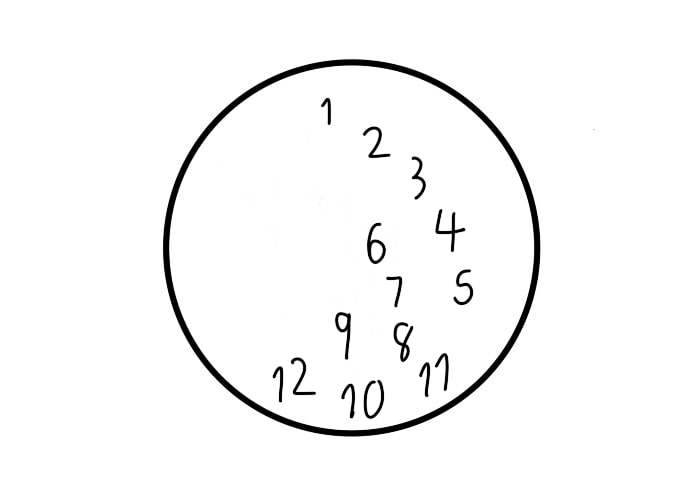eight: (390, 321, 414, 362)
eleven: (421, 351, 451, 398)
five: (454, 264, 475, 309)
four: (435, 207, 465, 253)
nine: (332, 307, 353, 363)
one: (316, 94, 334, 126)
seven: (383, 274, 405, 309)
six: (365, 218, 389, 266)
ten: (341, 376, 385, 420)
three: (408, 151, 426, 204)
twelve: (269, 354, 316, 404)
two: (360, 119, 391, 162)
